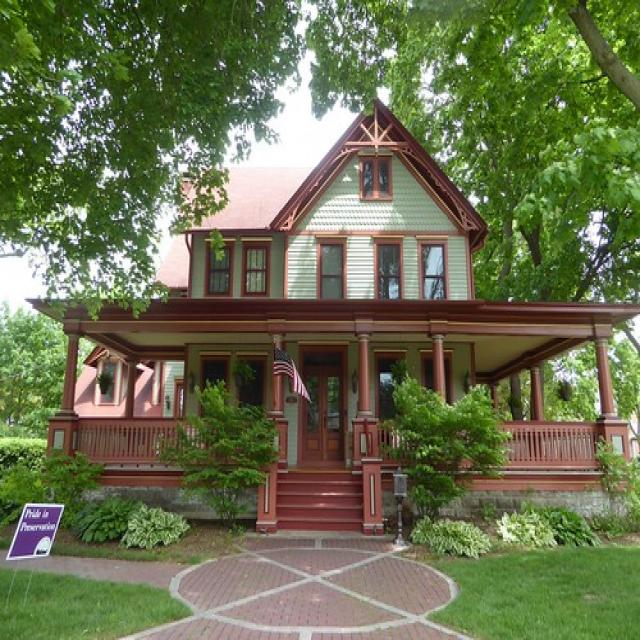Normal_building: (22, 97, 638, 550)
